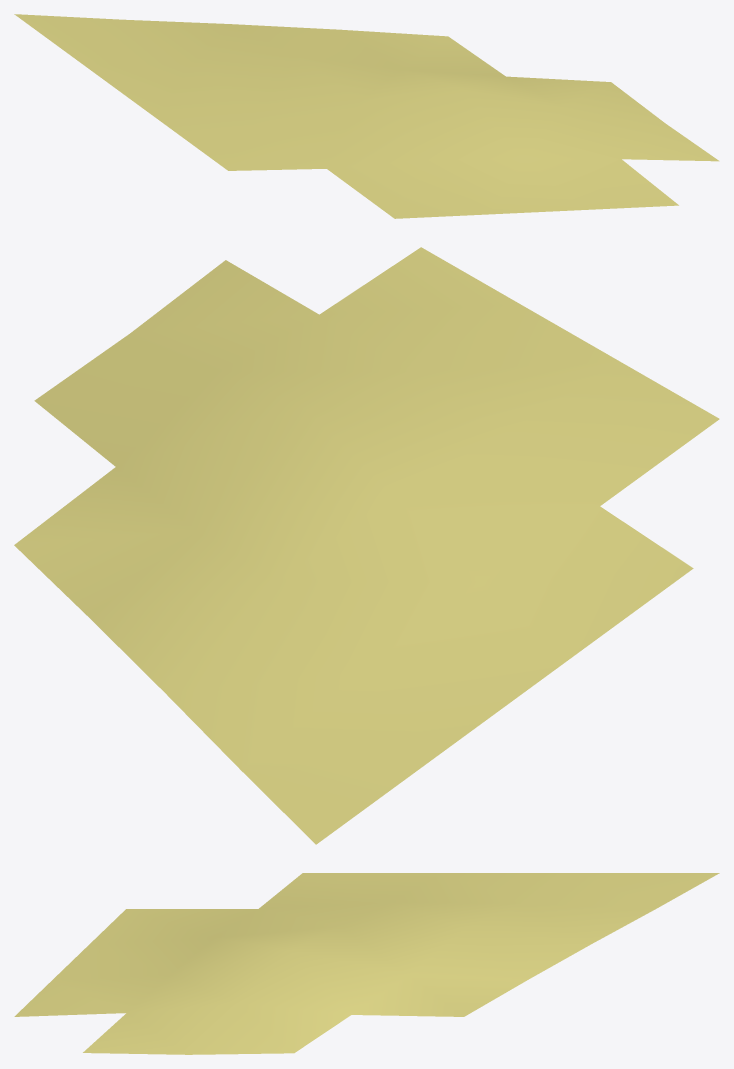
Rendered from bodenwelle_1.fbx.
3 renders of one model, top to bottom at view 1: azimuth 30°, elevation 25°; view 2: azimuth 150°, elevation 25°; view 3: azimuth 270°, elevation 25°, orthographic. The views are drawn at different scales.
Parts seen in each view (by area): view 1: bodenwelle_1; view 2: bodenwelle_1; view 3: bodenwelle_1.
Part boxes in pixels (left/top/right/bottom): bodenwelle_1: left=14, top=14, right=719, bottom=218; bodenwelle_1: left=14, top=247, right=719, bottom=844; bodenwelle_1: left=14, top=873, right=719, bottom=1054.
Size of the model in its own units: 17.83 by 1.48 by 29.57.
